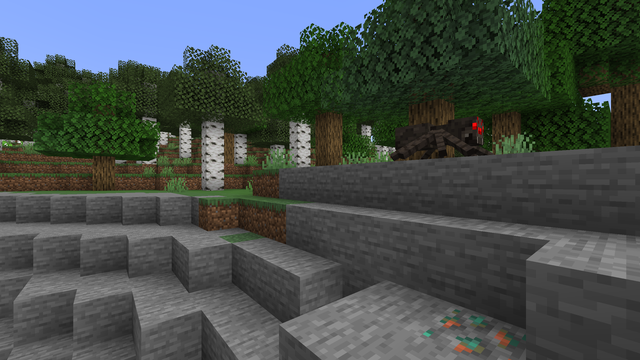araignees: (395, 106, 491, 155)
